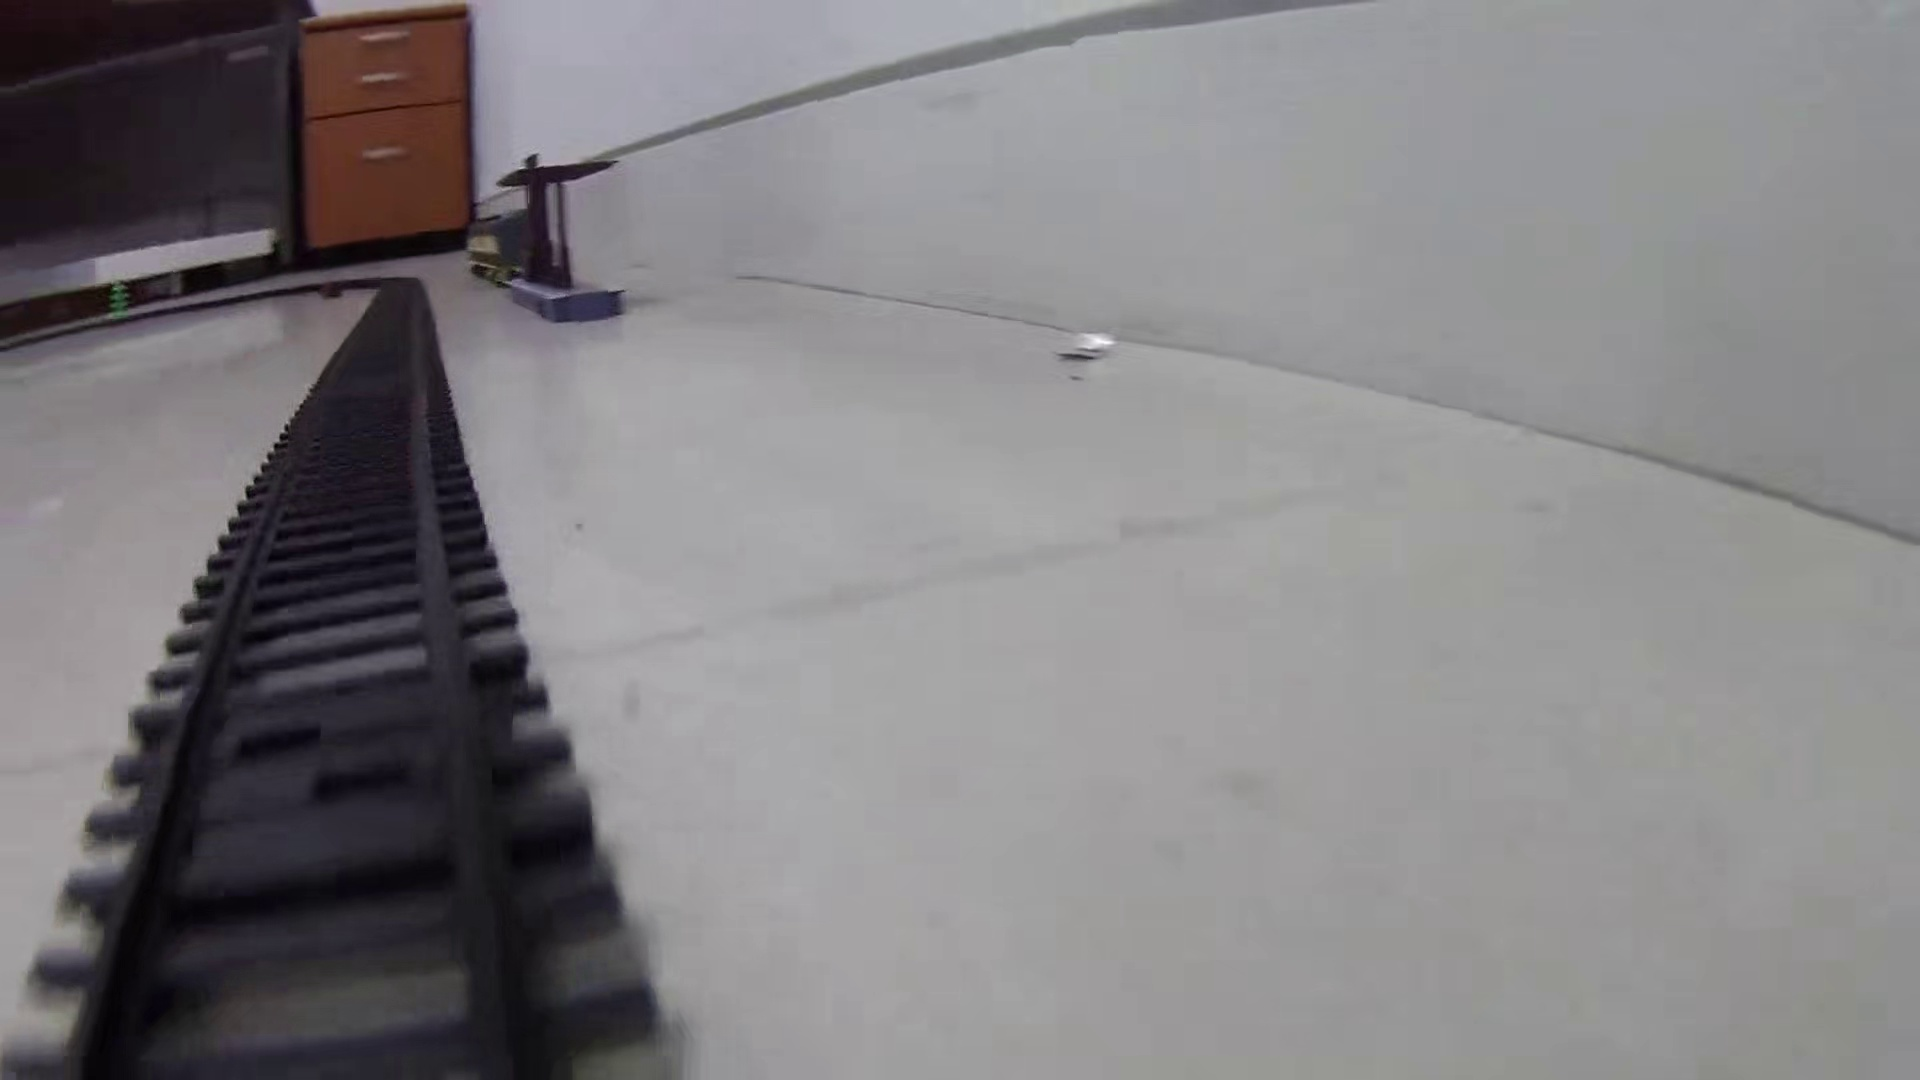tree: (104, 279, 129, 327)
